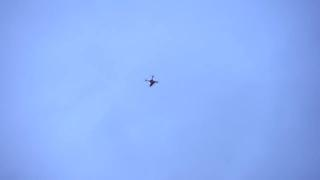UAV: (146, 76, 158, 87)
